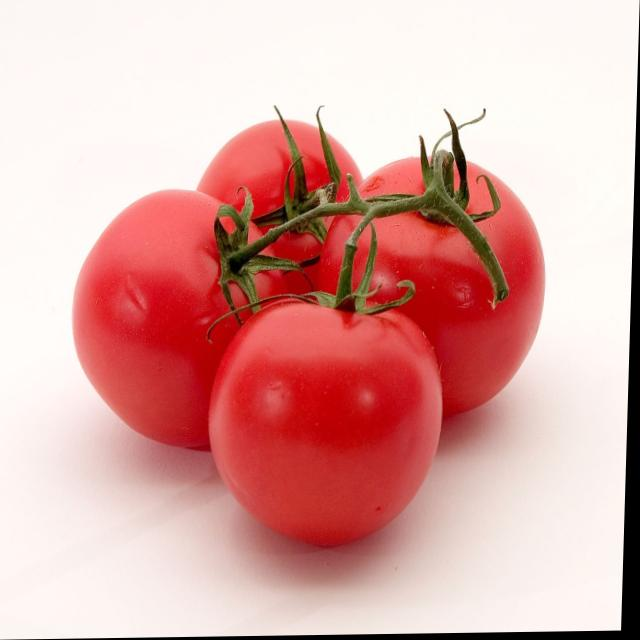kirmizi: (64, 78, 561, 552)
